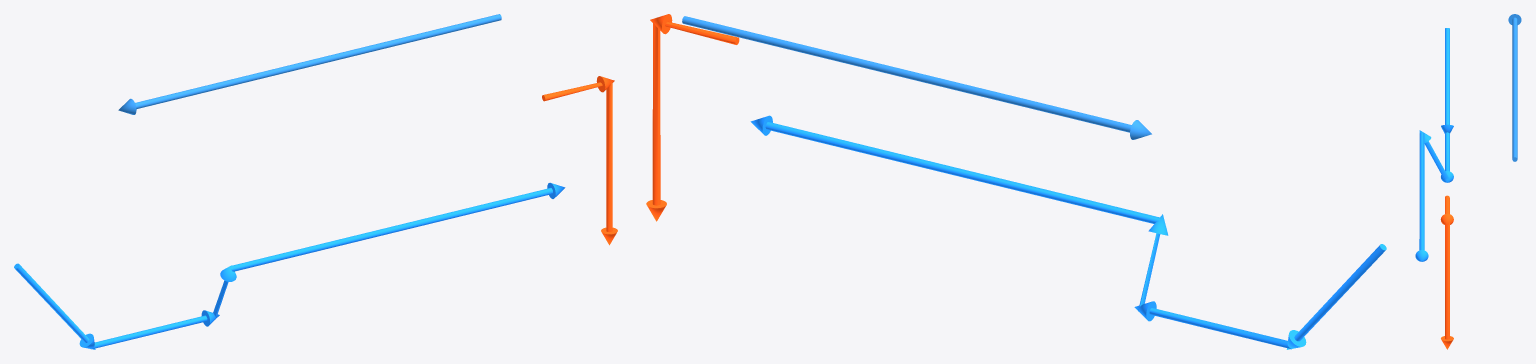
The model's file is nanofiltration_system_flow.glb.
3 renders of one model, left to right at view 1: azimuth 30°, elevation 25°; view 2: azimuth 150°, elevation 25°; view 3: azimuth 270°, elevation 25°, orthographic. The views are drawn at different scales.
Visible parts, largest first — view 1: feed, permeate, concentrate; view 2: feed, permeate, concentrate; view 3: feed, permeate, concentrate.
Boxes of the visible parts, x1,y1,x2,y2 form: feed: [14, 182, 565, 349]; permeate: [118, 14, 501, 114]; concentrate: [542, 76, 617, 245]; feed: [750, 115, 1386, 349]; permeate: [682, 16, 1151, 139]; concentrate: [646, 14, 739, 221]; feed: [1415, 28, 1453, 261]; permeate: [1508, 14, 1521, 161]; concentrate: [1440, 195, 1453, 349].
Bounding box in the file's own units: 3.2 × 1.12 × 0.628.
